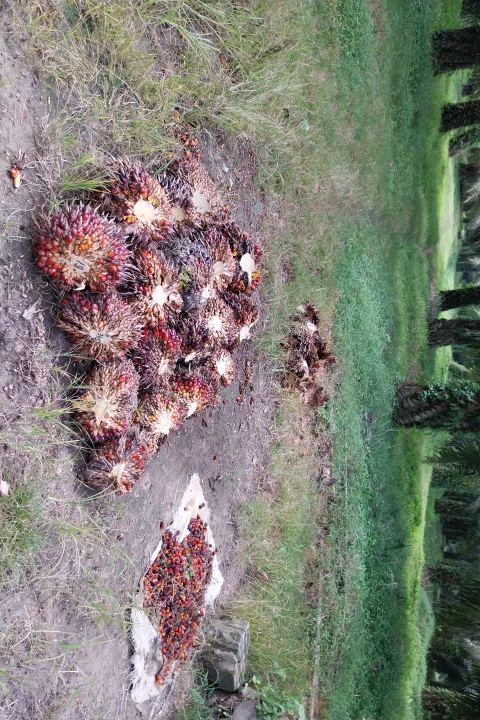janjang: (30, 198, 128, 288), (88, 438, 154, 498)
